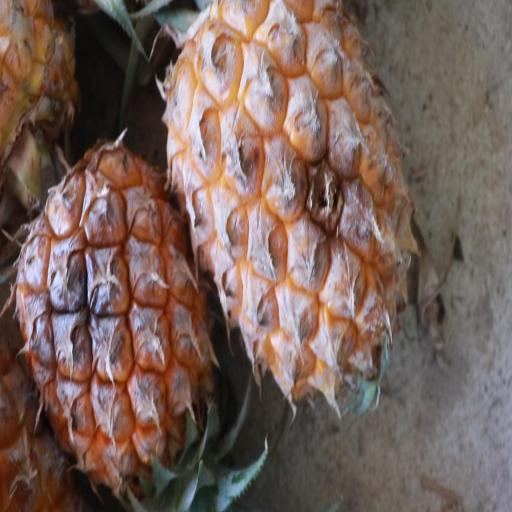Pineapple - v8 v1: (159, 0, 418, 407), (12, 137, 220, 502)
